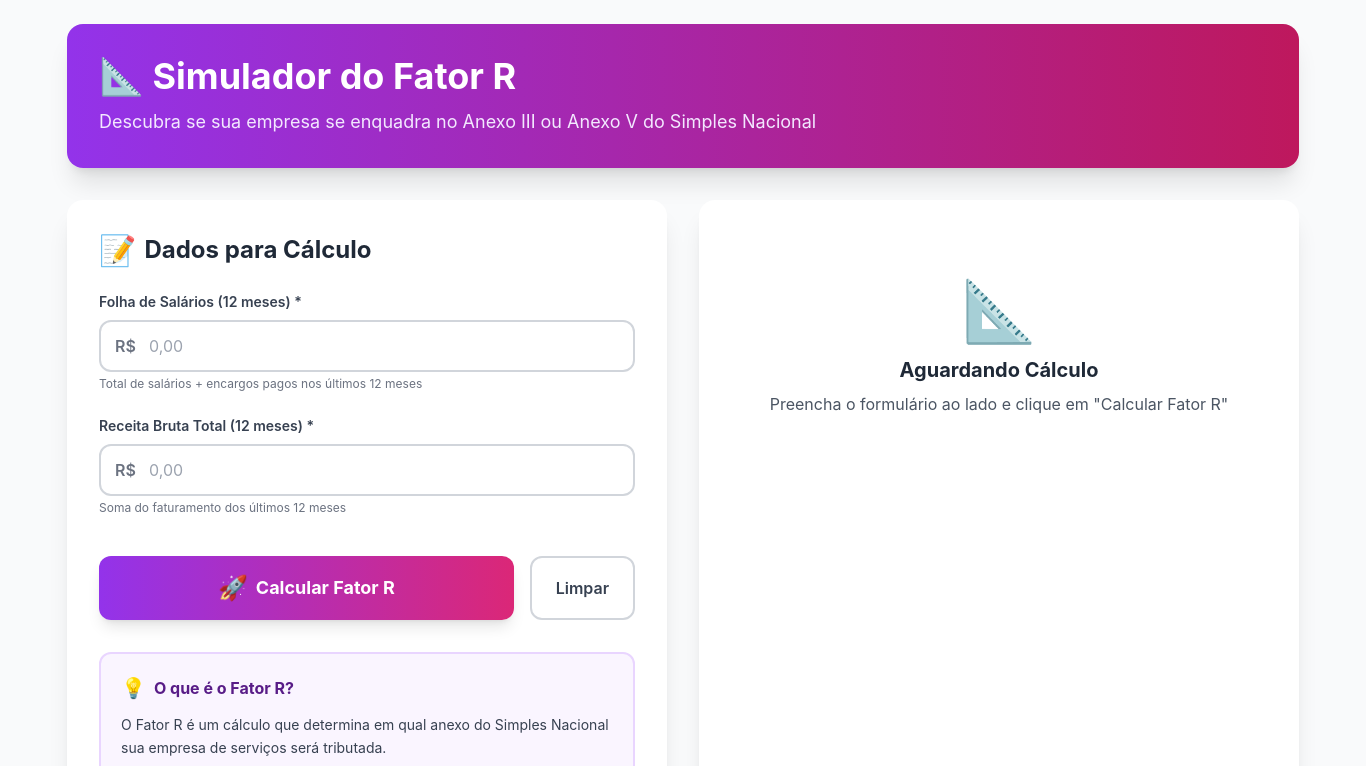
SimuladorFatorR - Testes de UI › Dado cenários de simulação › Quando resultado tiver cenários, Então deve exibi-los
Type "250000" into the number field with placeholder "0,00" below "Folha de Salários (12 meses) *" at (367, 346), box [99,320,635,372]
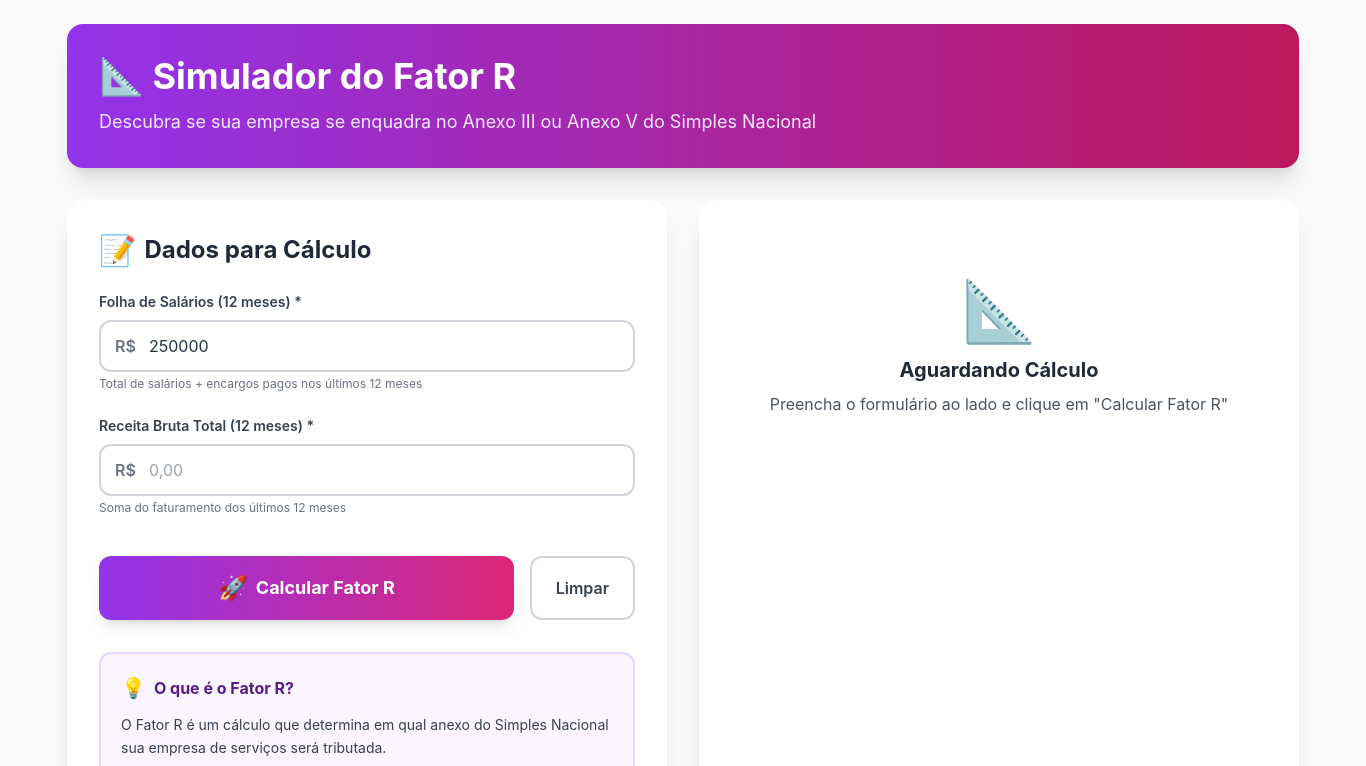
Type "1000000" into the number field with placeholder "0,00" at (367, 470), box [99,444,635,496]
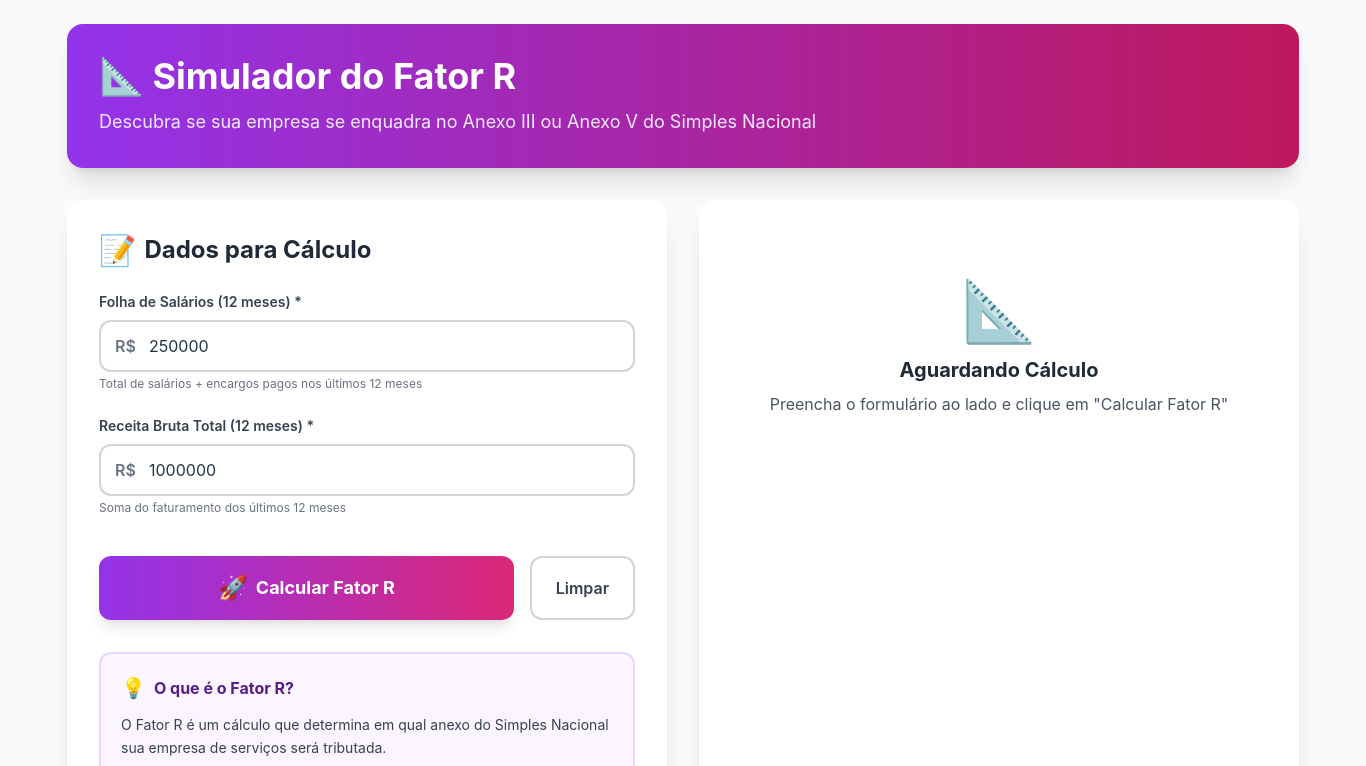
Click the button "🚀 Calcular Fator R" at (306, 588), box [99,556,514,620]
(page scrolled)
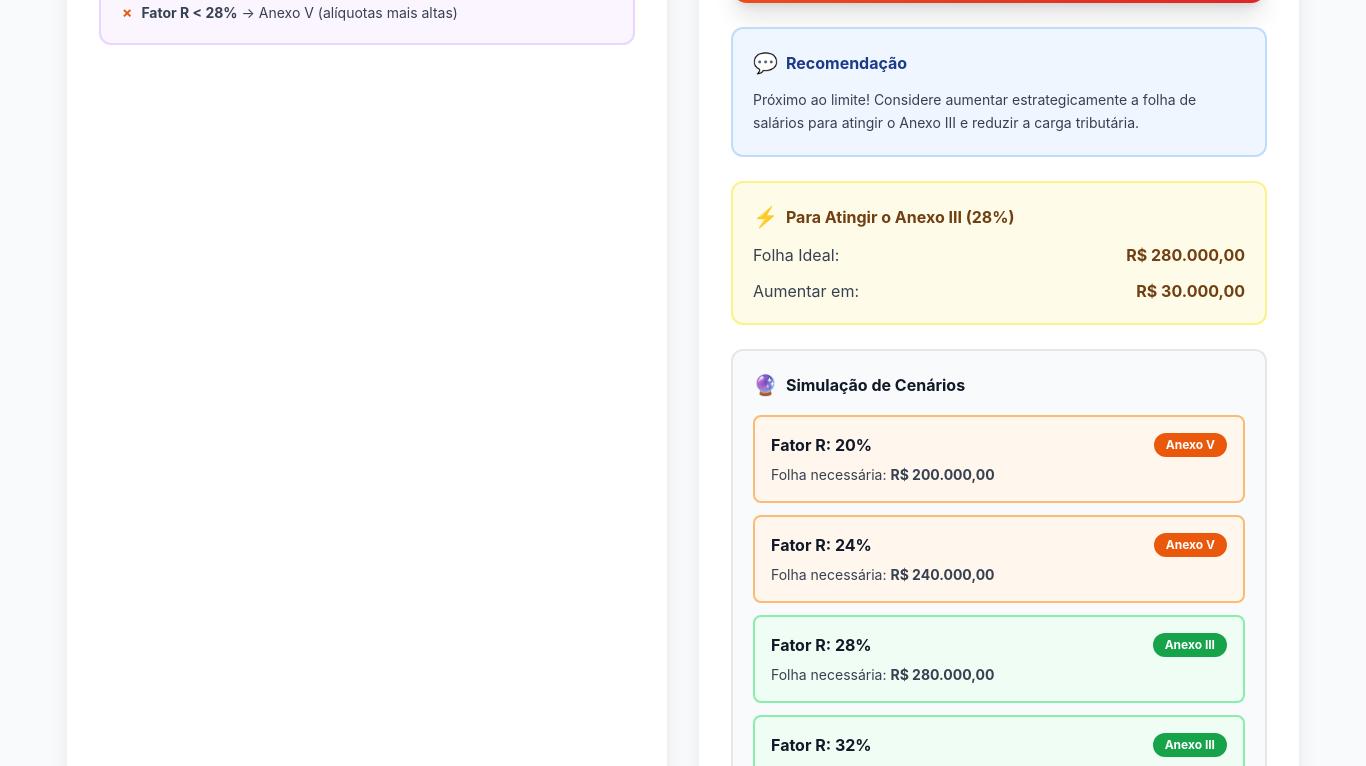
Check: the heading "🔮 Simulação de Cenários" is shown, box [753,372,965,396]
